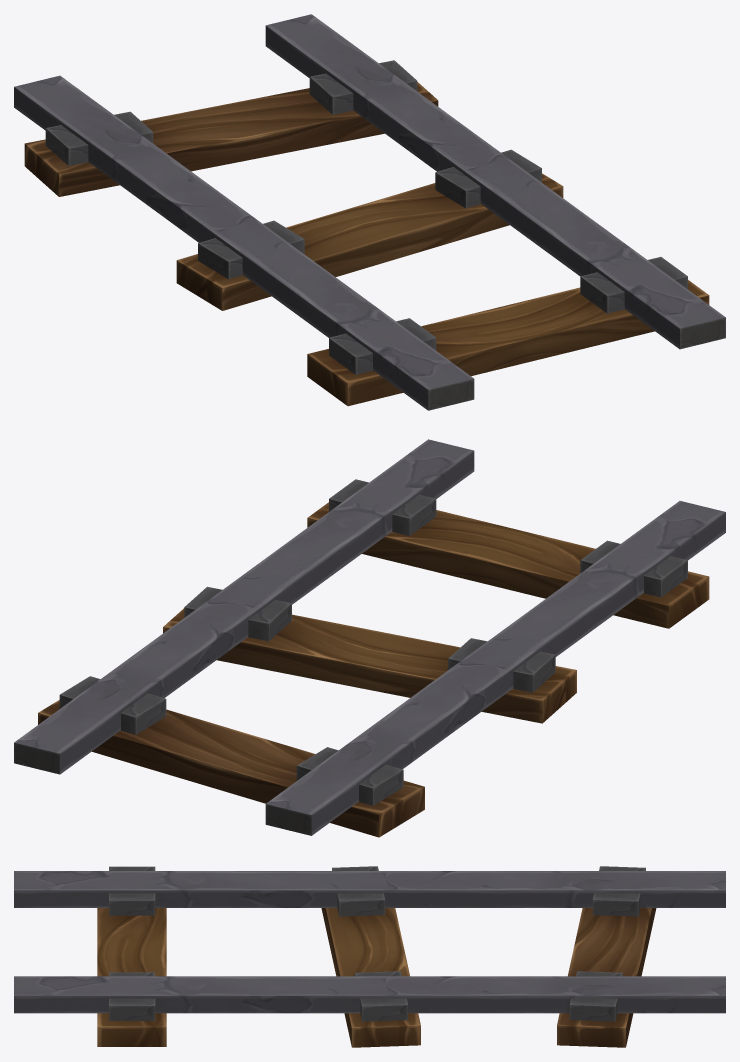
The model's file is Railway_1.FBX.
The picture shows the model from 3 angles, top to bottom: view 1: azimuth 30°, elevation 25°; view 2: azimuth 150°, elevation 25°; view 3: azimuth 270°, elevation 25°; orthographic projection. The views are drawn at different scales.
Parts seen in each view (by area): view 1: Railway_1; view 2: Railway_1; view 3: Railway_1.
Part boxes in pixels (<box>): Railway_1: <box>14,14,725,410</box>; Railway_1: <box>14,439,725,837</box>; Railway_1: <box>14,866,725,1047</box>.
Size of the model in its own units: 1020 by 117 by 2000.
